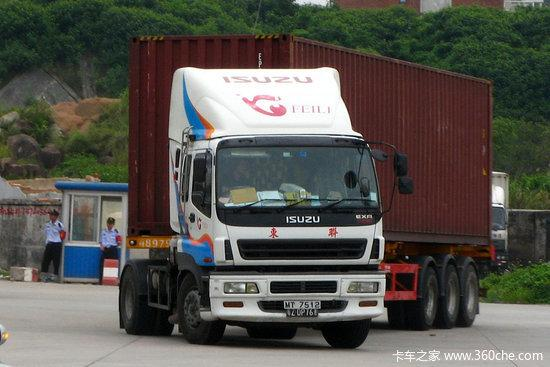truck: (112, 25, 505, 349)
